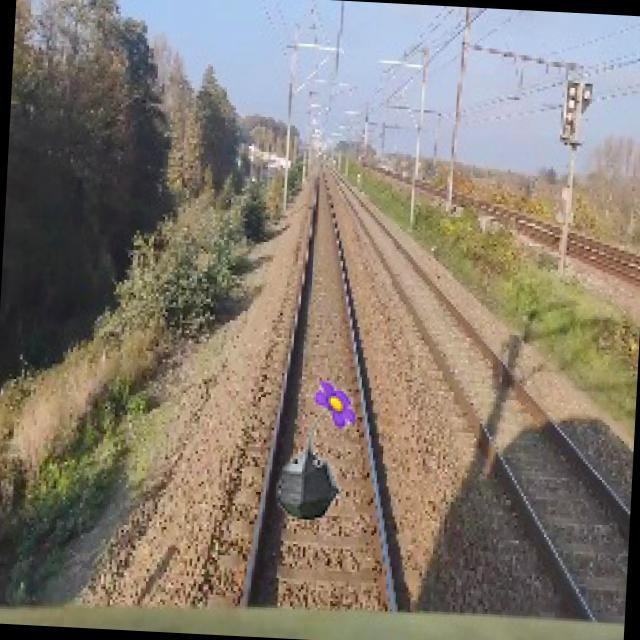rail: (216, 169, 427, 622)
